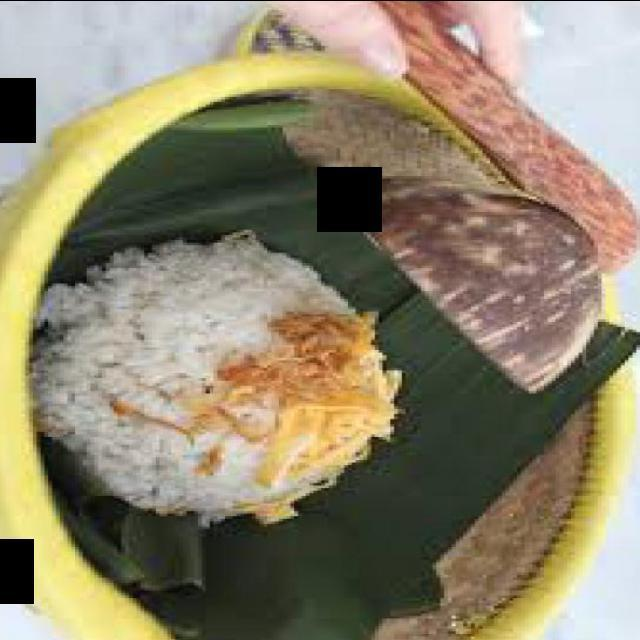Chicken -Chicken Inasal-: (33, 244, 344, 517)
